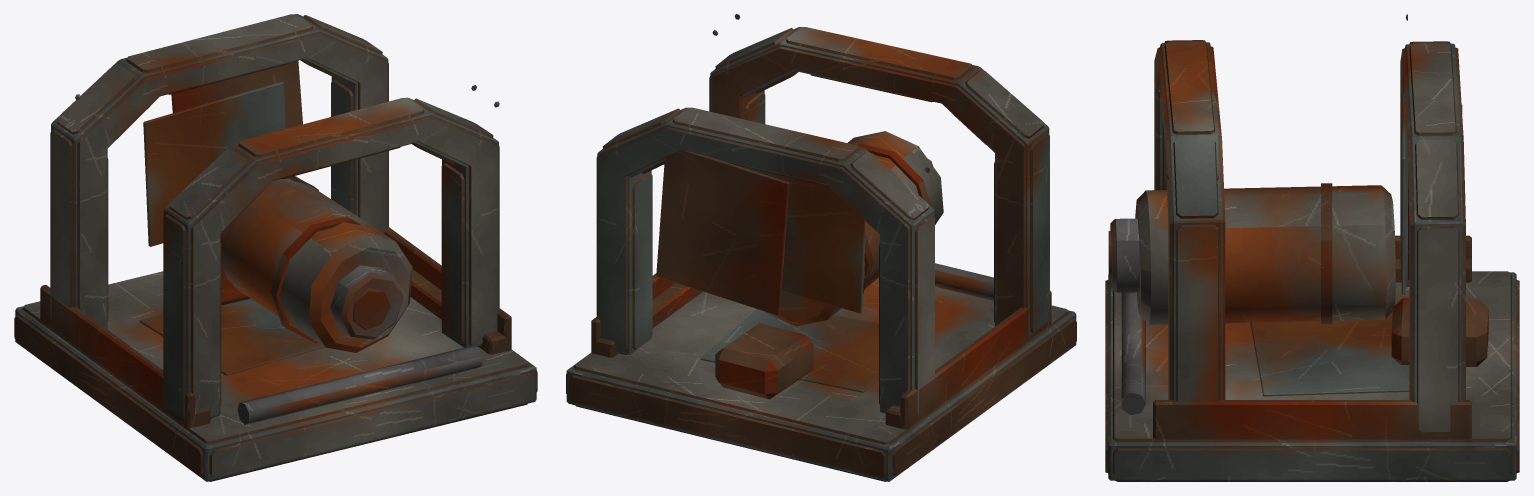
Rendered from R4X_WeaponDurabilityBooster.glb.
3 views of the same model, side by side, from view 1: azimuth 30°, elevation 25°; view 2: azimuth 150°, elevation 25°; view 3: azimuth 270°, elevation 25° (orthographic). The views are drawn at different scales.
Parts seen in each view (by area): view 1: R4X_WeaponDurabilityBooster_Body; view 2: R4X_WeaponDurabilityBooster_Body; view 3: R4X_WeaponDurabilityBooster_Body.
Part boxes in pixels (x1,y1,x2,y2): R4X_WeaponDurabilityBooster_Body: (14,14,537,481); R4X_WeaponDurabilityBooster_Body: (566,14,1076,481); R4X_WeaponDurabilityBooster_Body: (1105,14,1519,481).
Bounding box in the file's own units: 0.52 × 0.43 × 0.52.
5 materials, 4 textured.
